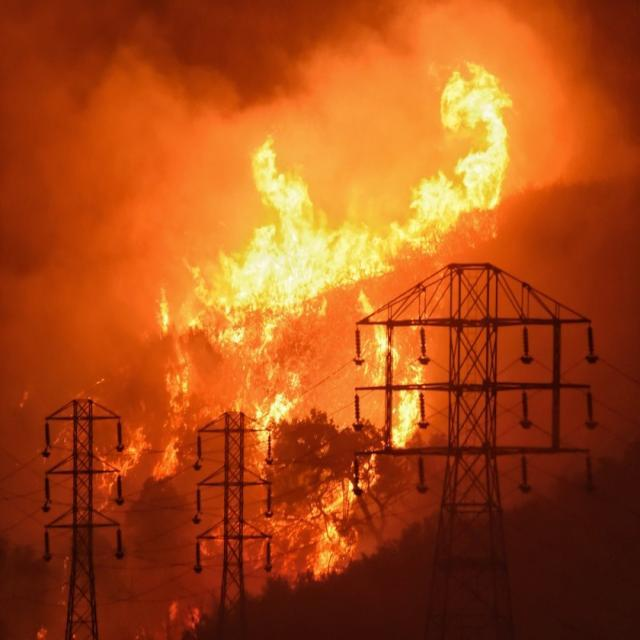Fire: (255, 294, 442, 576), (304, 48, 508, 279), (149, 142, 325, 372), (70, 369, 218, 542)
Smoke: (3, 22, 226, 240)
